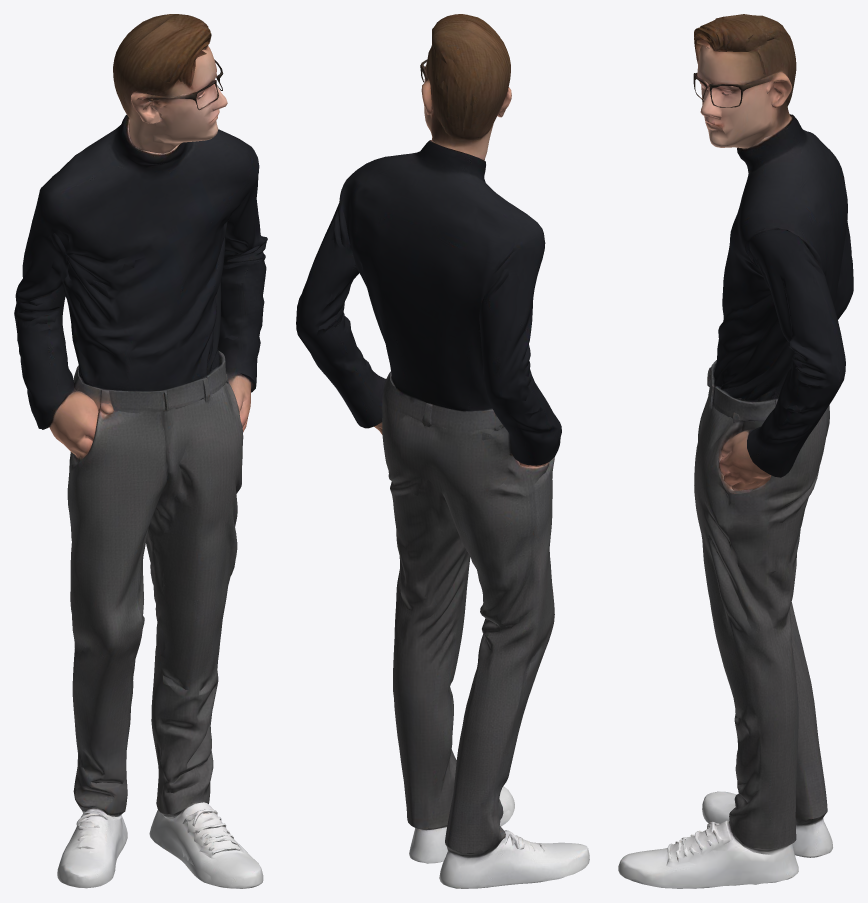
Rendered from person_01.glb.
3 views of the same model, side by side, from view 1: azimuth 30°, elevation 25°; view 2: azimuth 150°, elevation 25°; view 3: azimuth 270°, elevation 25° (orthographic). The views are drawn at different scales.
Visible parts, largest first — view 1: Mesh; view 2: Mesh; view 3: Mesh.
Part boxes in pixels (x1=…): Mesh: x1=14, y1=14, x2=267, y2=888; Mesh: x1=296, y1=14, x2=589, y2=888; Mesh: x1=618, y1=14, x2=853, y2=888.
Bounding box in the file's own units: 0.5843 × 1.9 × 0.4764.
1 material, 1 textured.
